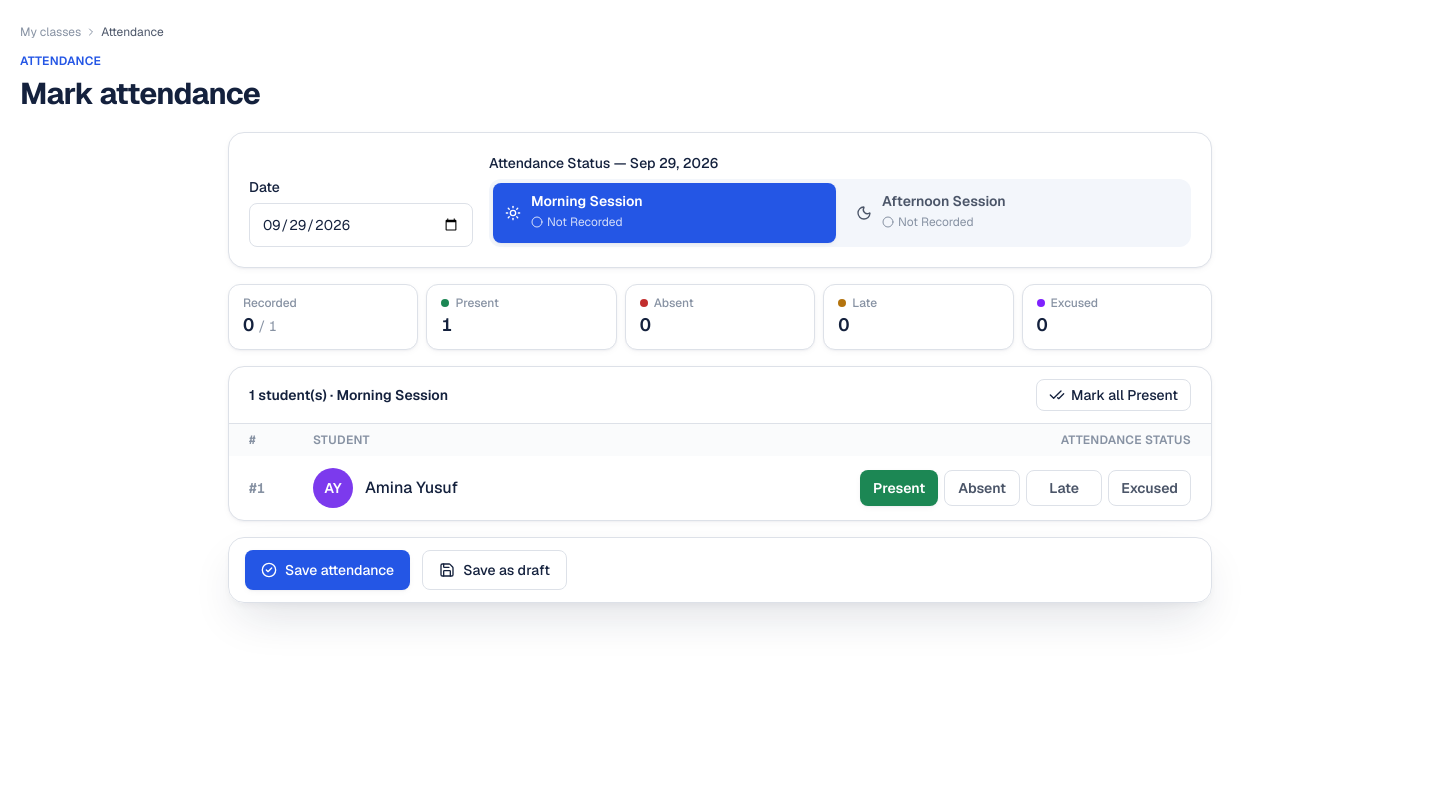
Scenario: AttendancePage — marking and saving › shows the finalized confirmation message and a success toast after a successful save
Check: the text "Yusuf" is shown, box [416,477,458,498]
Click the button "Save attendance". click: (328, 570)
box: [245,550,410,590]
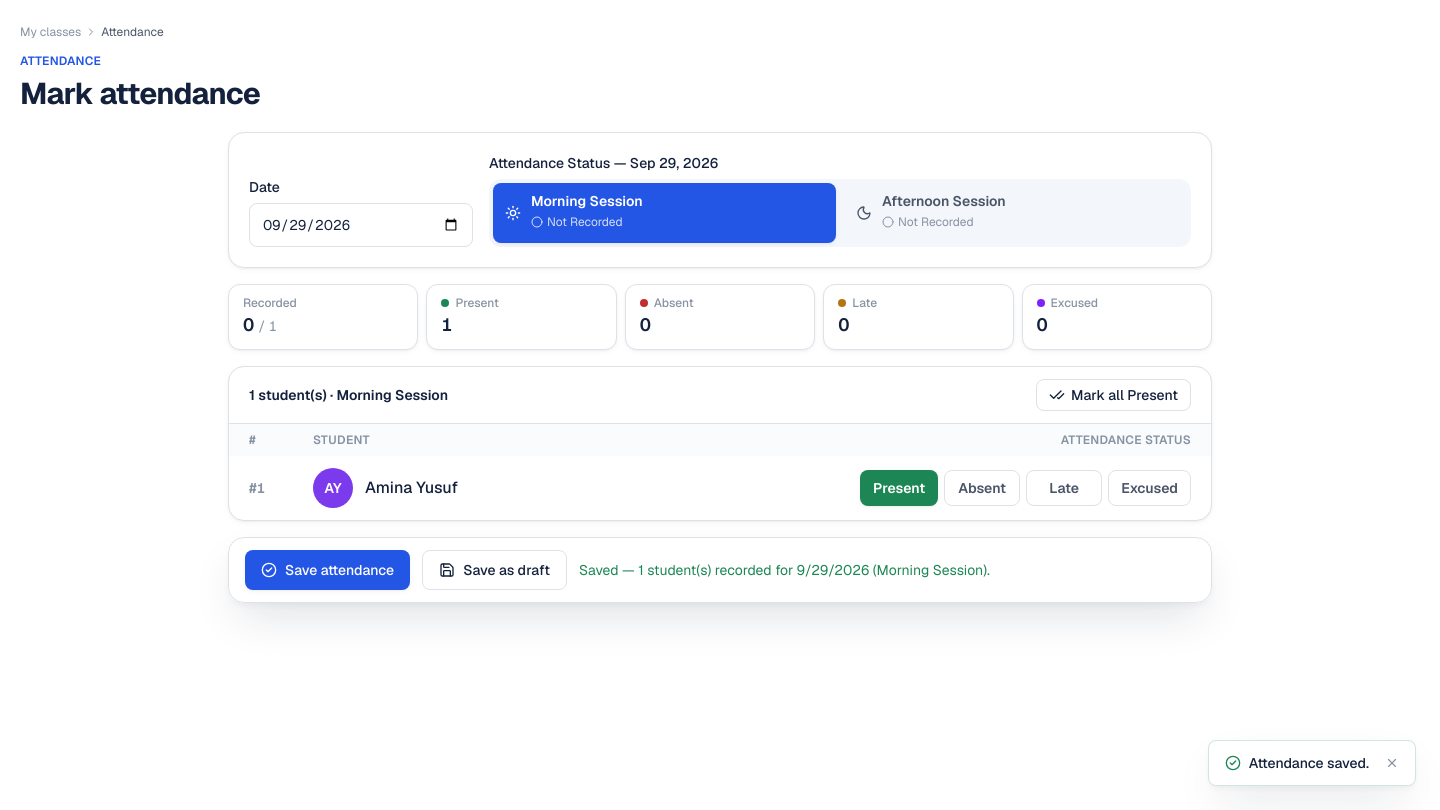
Check: the text "Saved — 1 student(s) recorded" is shown, box [579,560,990,580]
Check: the text "Attendance saved." is shown, box [1249,753,1369,773]
